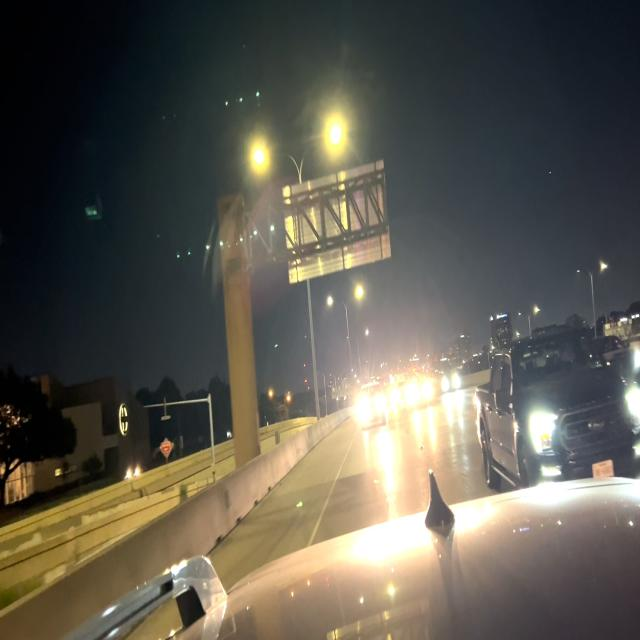back-of-sign: (282, 159, 392, 285)
